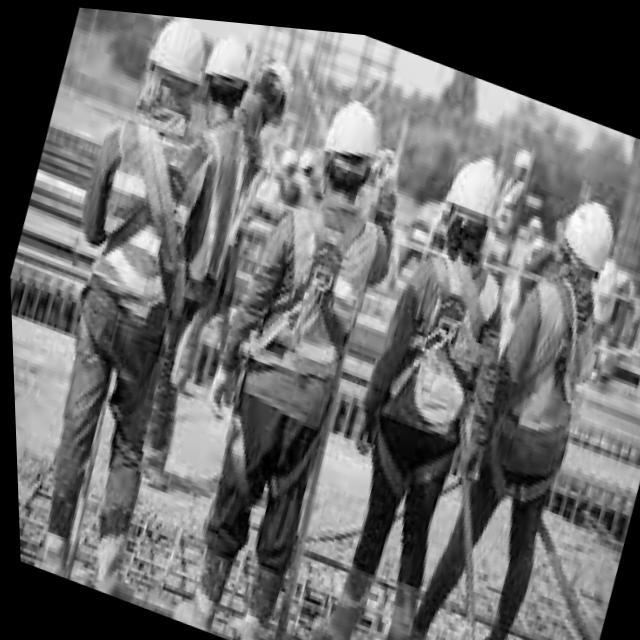belt: (194, 174, 391, 536), (351, 220, 512, 502), (464, 252, 614, 514), (80, 101, 220, 312)
